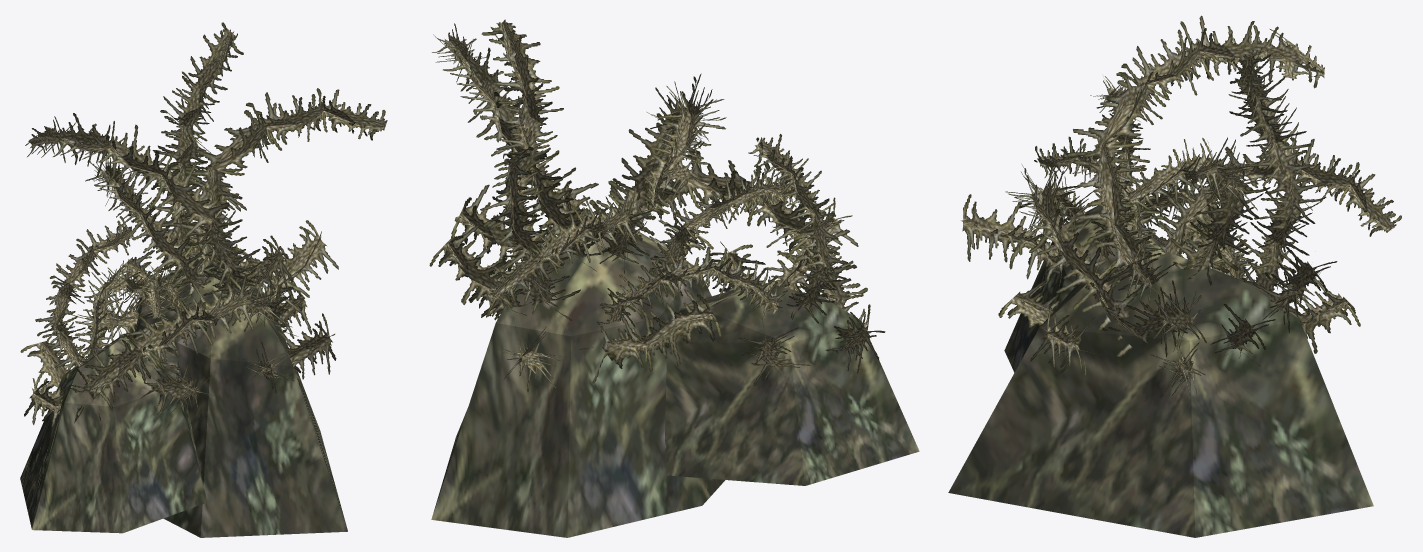
File: C4SNVINES.obj
The picture shows the model from 3 angles, left to right: view 1: azimuth 30°, elevation 25°; view 2: azimuth 150°, elevation 25°; view 3: azimuth 270°, elevation 25°; orthographic projection. The views are drawn at different scales.
Parts seen in each view (by area): view 1: Node 0; view 2: Node 0; view 3: Node 0.
Boxes of the visible parts, x1,y1,x2,y2 form: Node 0: [20, 22, 387, 537]; Node 0: [429, 19, 919, 537]; Node 0: [948, 15, 1401, 537].
Size of the model in its own units: 4.57 by 4.53 by 4.1.
Materials: 2 (2 with a texture image).
